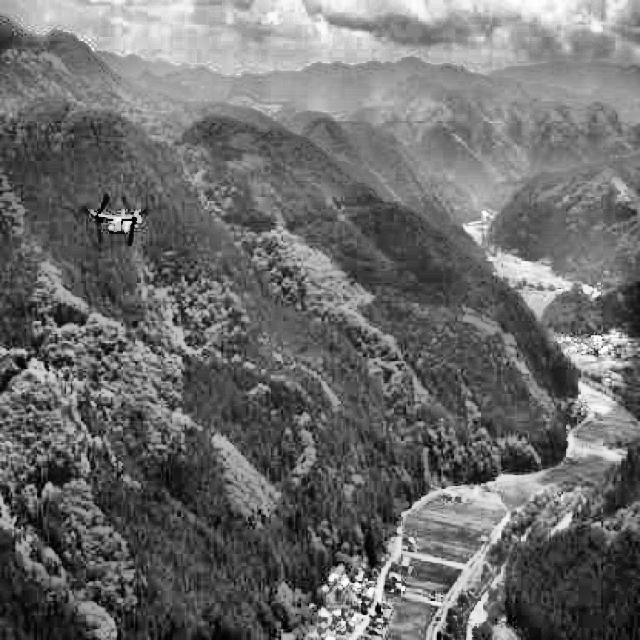V22: (81, 192, 152, 246)
